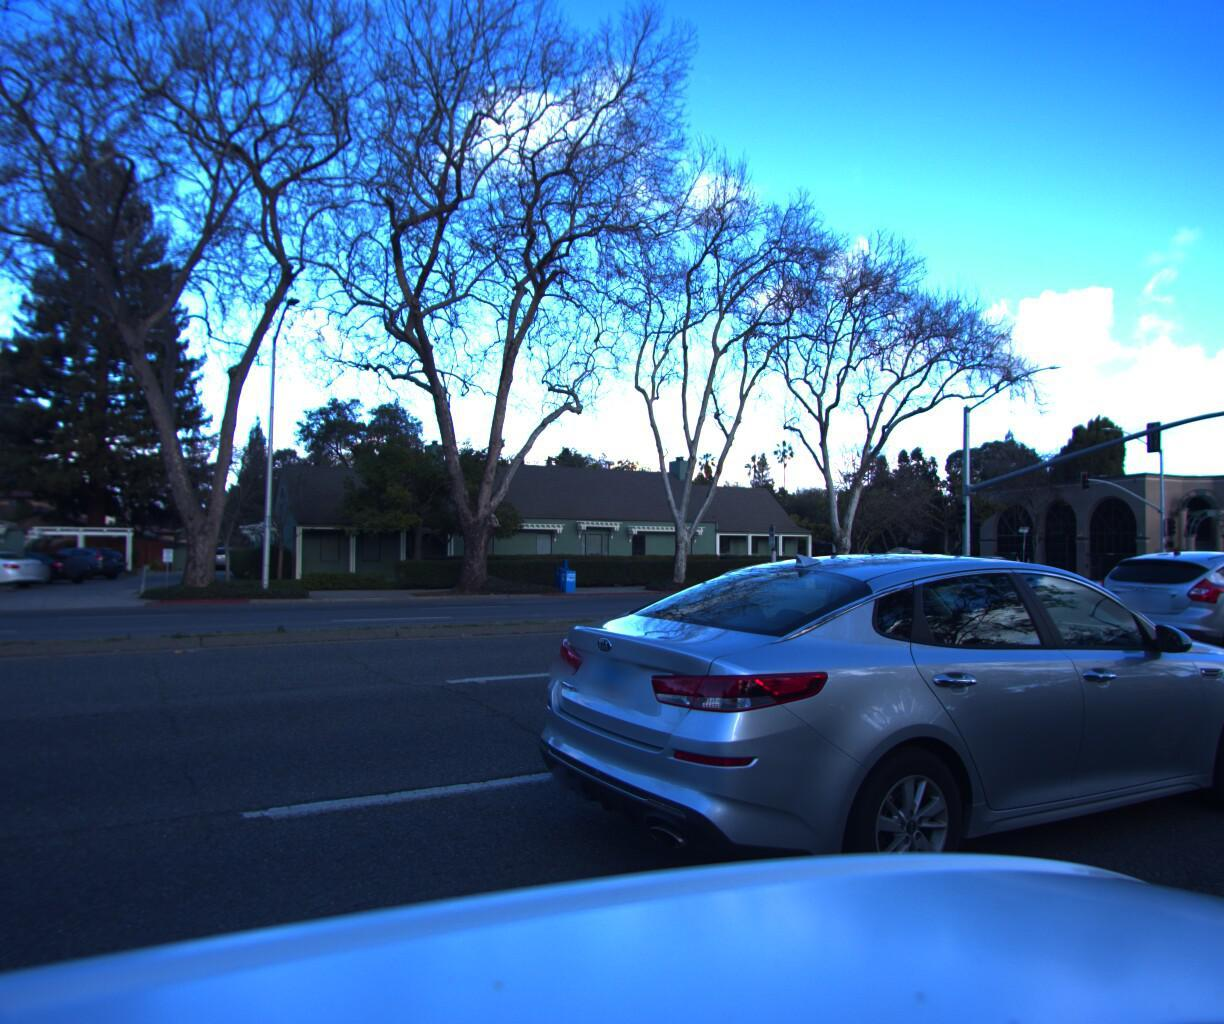car: (505, 544, 1224, 990), (1080, 545, 1224, 670), (959, 550, 1026, 577)
